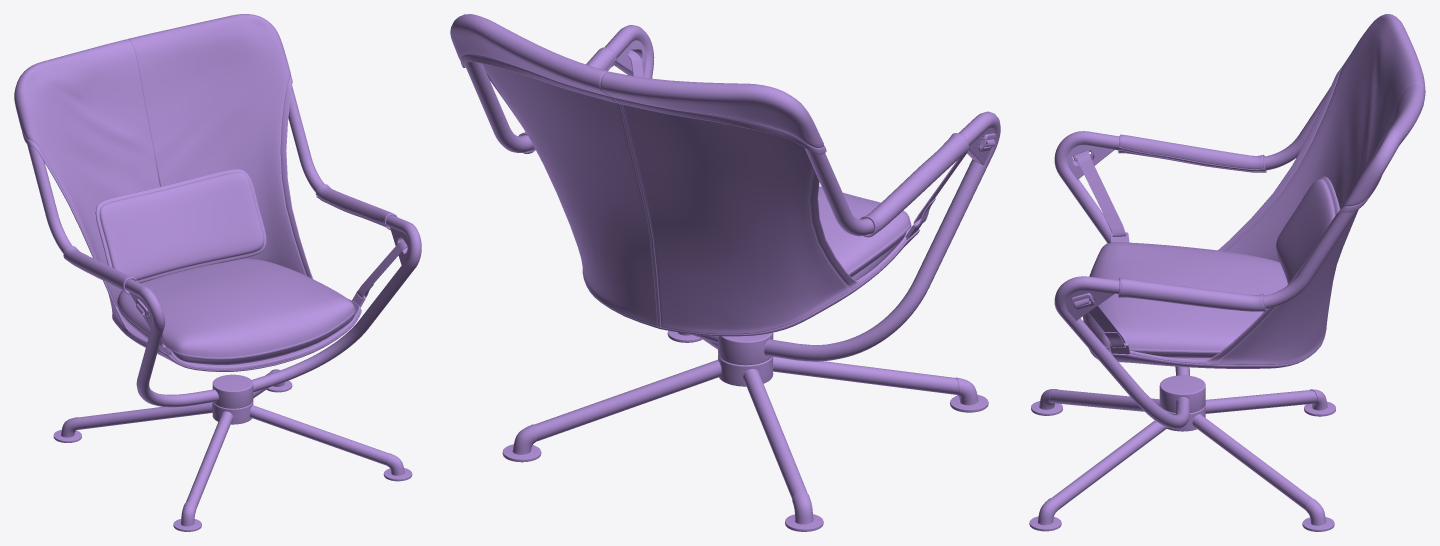
The model's file is FrontDeskChair.fbx.
3 views of the same model, side by side, from view 1: azimuth 30°, elevation 25°; view 2: azimuth 150°, elevation 25°; view 3: azimuth 270°, elevation 25° (orthographic). The views are drawn at different scales.
Visible parts, largest first — view 1: vitra_waver; view 2: vitra_waver; view 3: vitra_waver.
Boxes of the visible parts, <box> form: vitra_waver: <box>14,14,421,531</box>; vitra_waver: <box>450,14,1000,531</box>; vitra_waver: <box>1029,14,1425,531</box>.
Bounding box in the file's own units: 82.18 × 98.85 × 90.36.
